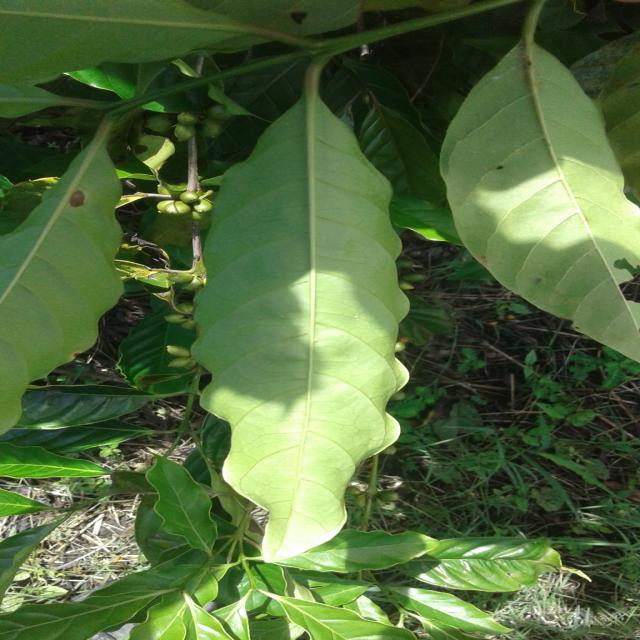Sanas: (190, 87, 410, 566)
